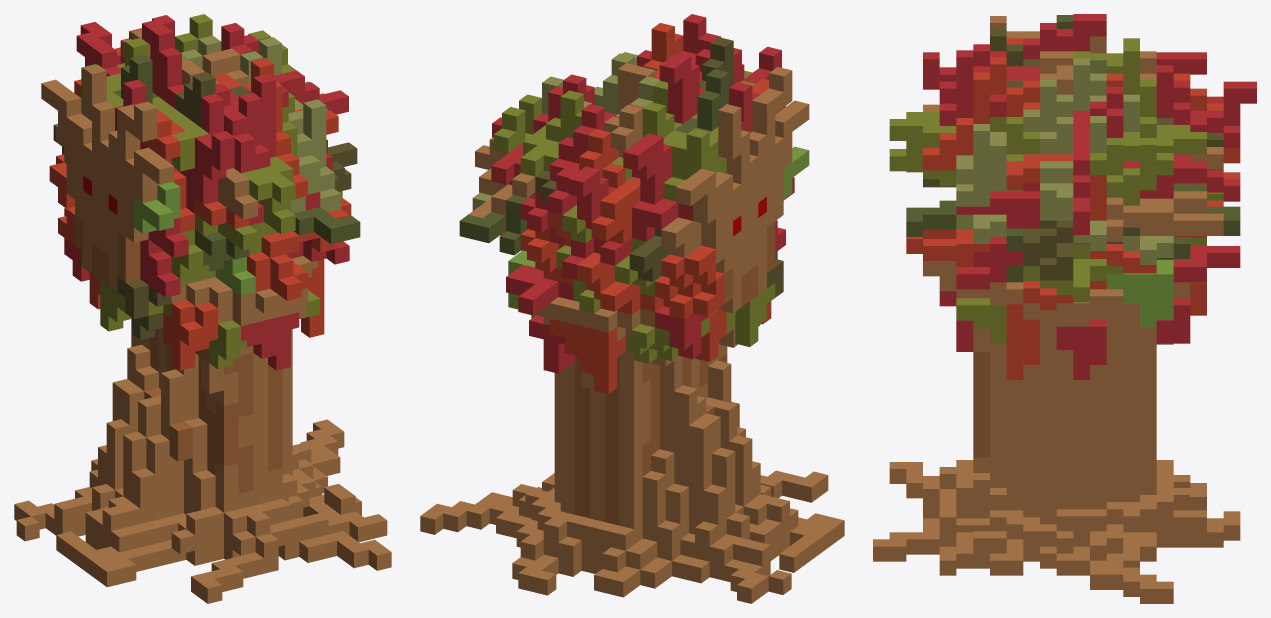
The model's file is Yuri_Alexandra_Castañeda_Montaño_fase_4.obj.
The picture shows the model from 3 angles, left to right: view 1: azimuth 30°, elevation 25°; view 2: azimuth 150°, elevation 25°; view 3: azimuth 270°, elevation 25°; orthographic projection.
Parts seen in each view (by area): view 1: Yuri_Alexandra_Castañeda_Montaño_fase_4; view 2: Yuri_Alexandra_Castañeda_Montaño_fase_4; view 3: Yuri_Alexandra_Castañeda_Montaño_fase_4.
Part boxes in pixels (box(x1,y1,x2,y2)): Yuri_Alexandra_Castañeda_Montaño_fase_4: box(14, 14, 391, 603); Yuri_Alexandra_Castañeda_Montaño_fase_4: box(420, 14, 844, 603); Yuri_Alexandra_Castañeda_Montaño_fase_4: box(873, 14, 1256, 603).
Bounding box in the file's own units: 23 × 32 × 23.
1 material, 1 textured.
